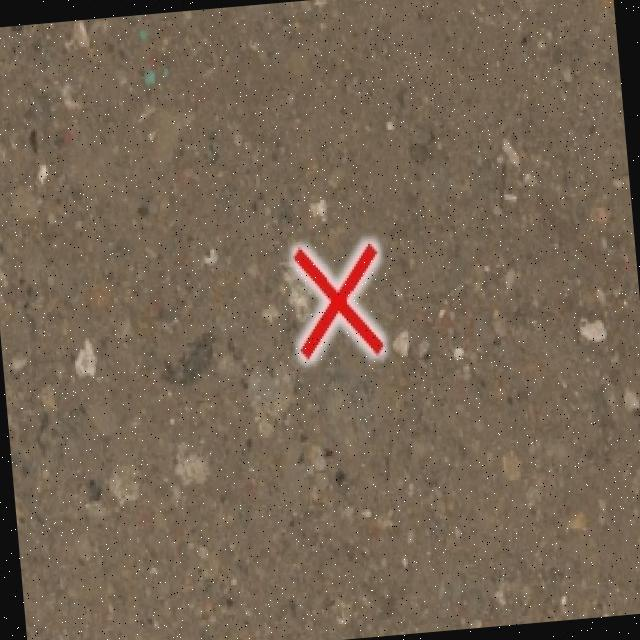x_marker: (291, 242, 384, 358)
